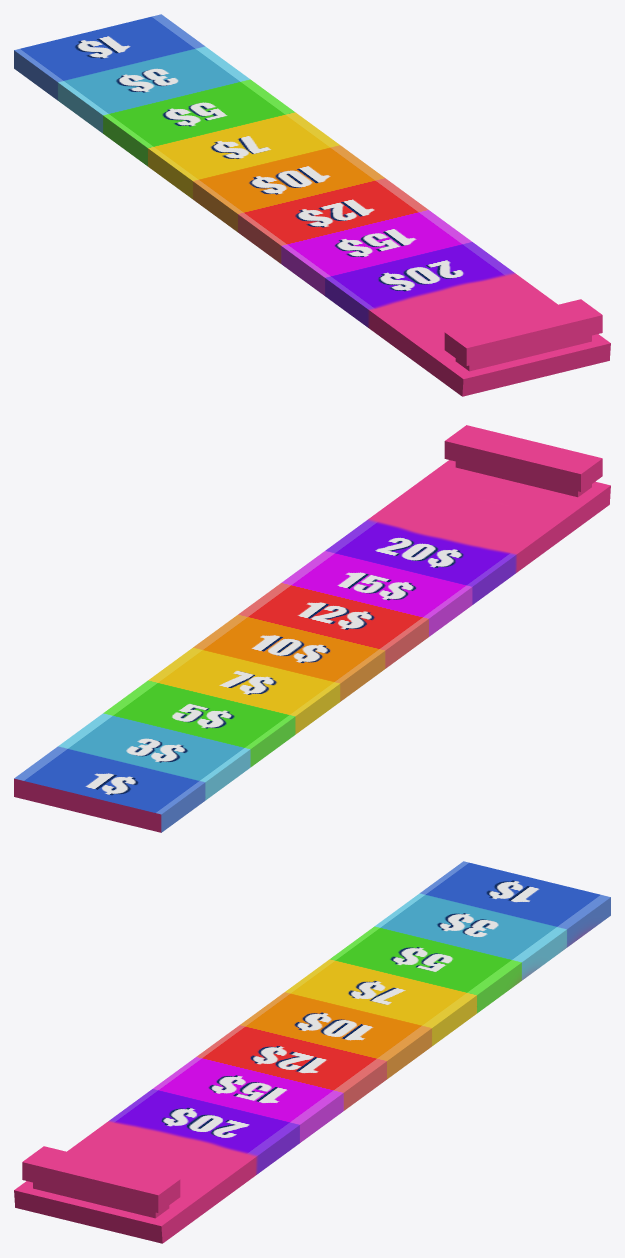
The model's file is scor panel.fbx.
3 renders of one model, top to bottom at view 1: azimuth 30°, elevation 25°; view 2: azimuth 150°, elevation 25°; view 3: azimuth 330°, elevation 25°, orthographic.
Visible parts, largest first — view 1: score; view 2: score; view 3: score.
Part boxes in pixels (bbox=[...]): score: bbox=[14, 14, 610, 396]; score: bbox=[14, 425, 610, 832]; score: bbox=[14, 861, 610, 1243].
Bounding box in the file's own units: 10.48 × 3.13 × 55.34.
Materials: 1 (1 with a texture image).
